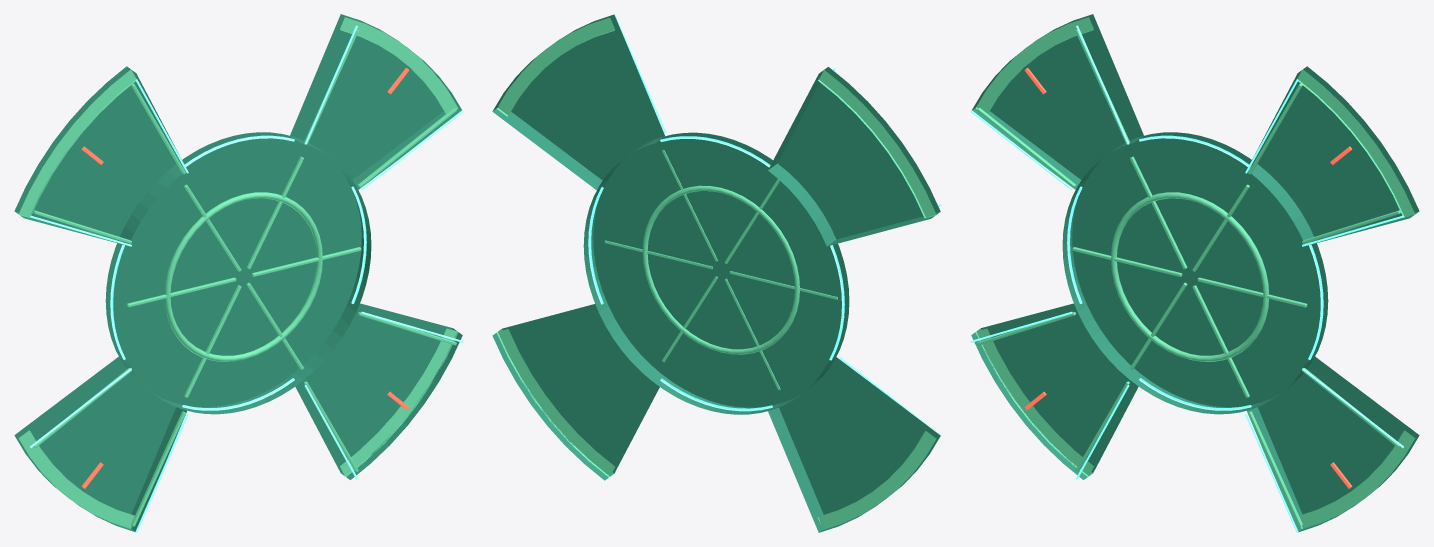
Rendered from bio-panel-fun6-high.glb.
The picture shows the model from 3 angles, left to right: view 1: azimuth 30°, elevation 25°; view 2: azimuth 150°, elevation 25°; view 3: azimuth 330°, elevation 25°; orthographic projection.
Parts seen in each view (by area): view 1: RENDER_PANEL_SHELL, RENDER_PANEL_FRAME, RENDER_PANEL_SIGNAL, RENDER_PANEL_HAZARD; view 2: RENDER_PANEL_SHELL, RENDER_PANEL_FRAME, RENDER_PANEL_SIGNAL; view 3: RENDER_PANEL_SHELL, RENDER_PANEL_FRAME, RENDER_PANEL_SIGNAL, RENDER_PANEL_HAZARD.
Part boxes in pixels (x1,y1,x2,y2): RENDER_PANEL_SHELL: [14, 14, 462, 532]; RENDER_PANEL_FRAME: [18, 17, 458, 528]; RENDER_PANEL_SIGNAL: [30, 25, 463, 532]; RENDER_PANEL_HAZARD: [81, 68, 409, 488]; RENDER_PANEL_SHELL: [492, 14, 940, 532]; RENDER_PANEL_FRAME: [496, 17, 936, 529]; RENDER_PANEL_SIGNAL: [588, 14, 941, 436]; RENDER_PANEL_SHELL: [971, 14, 1419, 532]; RENDER_PANEL_FRAME: [975, 17, 1415, 529]; RENDER_PANEL_SIGNAL: [970, 25, 1403, 532]; RENDER_PANEL_HAZARD: [1024, 68, 1352, 488].
Size of what is drawn, in the model's own units: 36.85 by 36.85 by 1.95.
